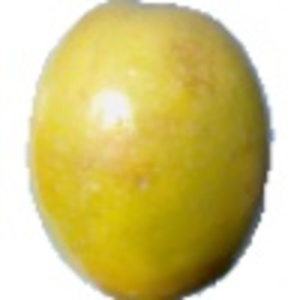maracujá: (26, 1, 278, 300)
